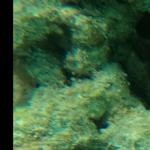dead: (13, 5, 143, 146)
